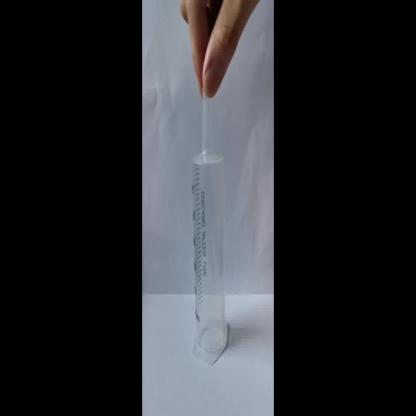dry: (186, 100, 238, 368)
